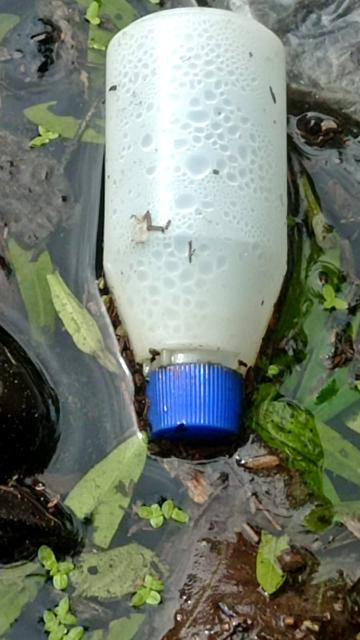bottle: (99, 11, 291, 461)
